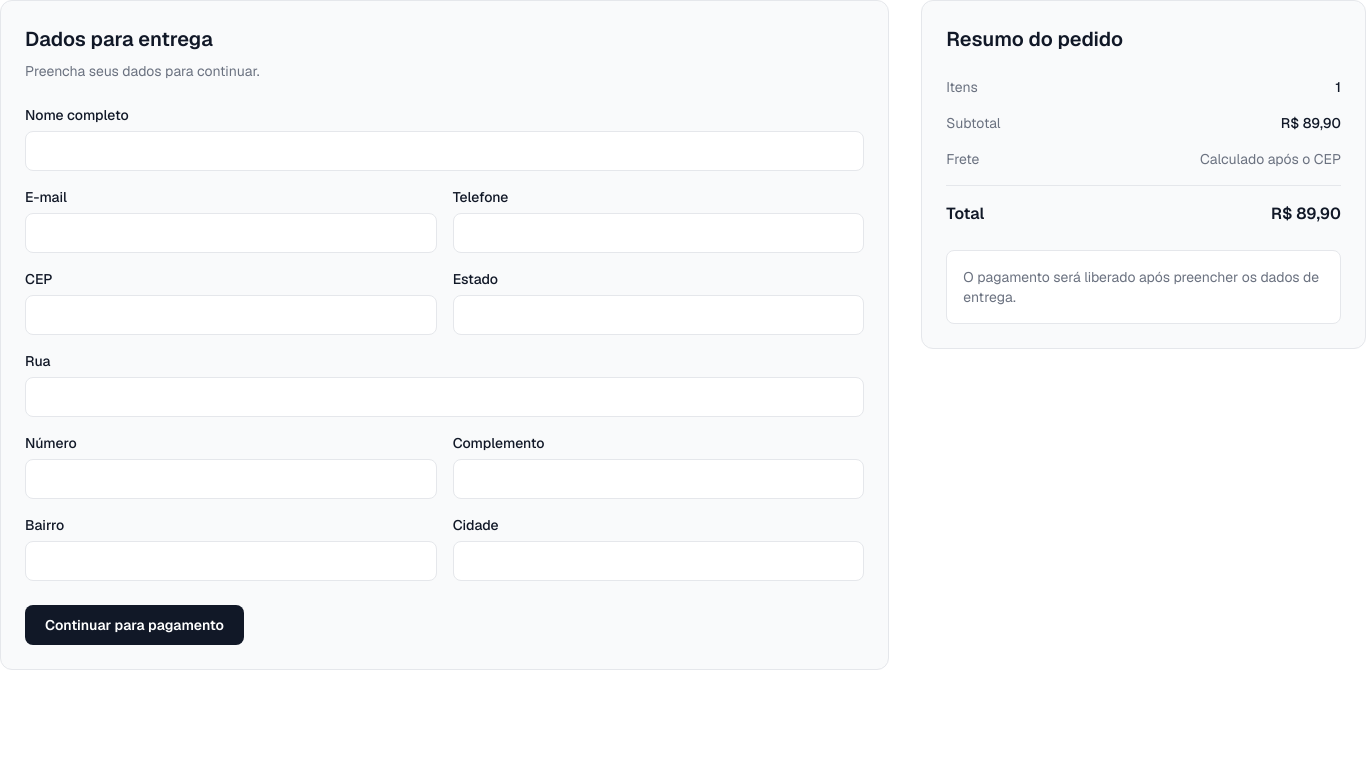
Test: CheckoutContent › deve manter os dados ao voltar para entrega
The image size is (1366, 768).
In the field labelled "Nome completo": (445, 151) [25,131,864,171], type "Guilherme Nobre"
In the field labelled "E-mail": (231, 233) [25,213,437,253], type "guilherme@example.com"
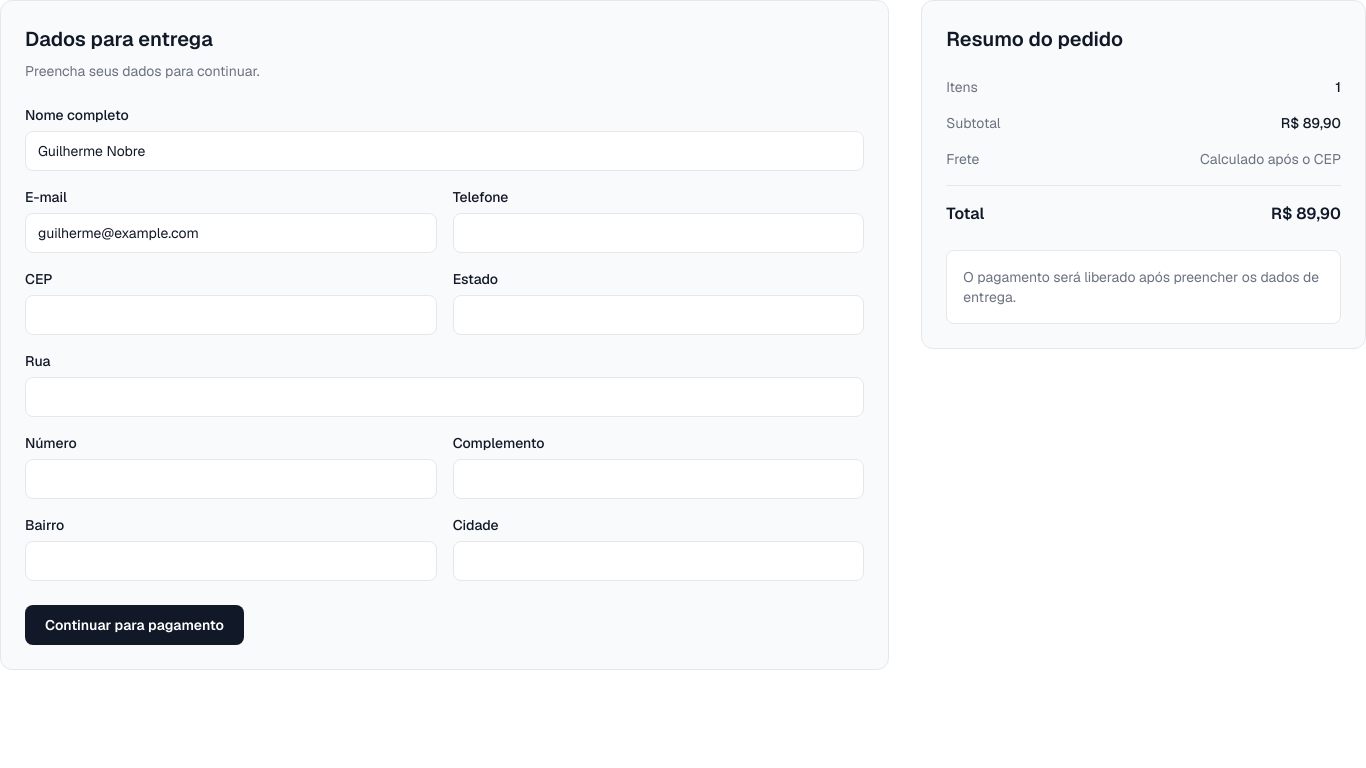
In the field labelled "Telefone": (659, 233) [453,213,864,253], type "16999998888"
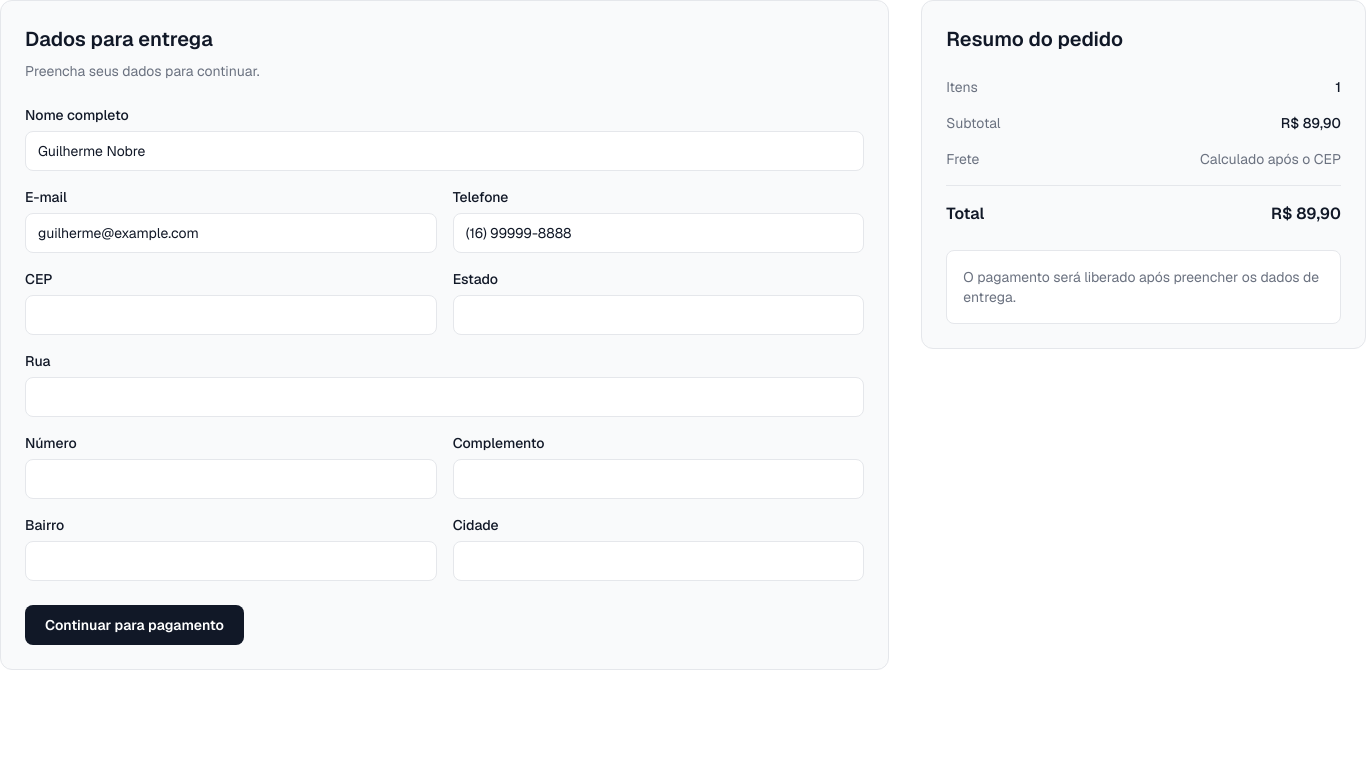
In the field labelled "CEP": (231, 315) [25,295,437,335], type "14010120"
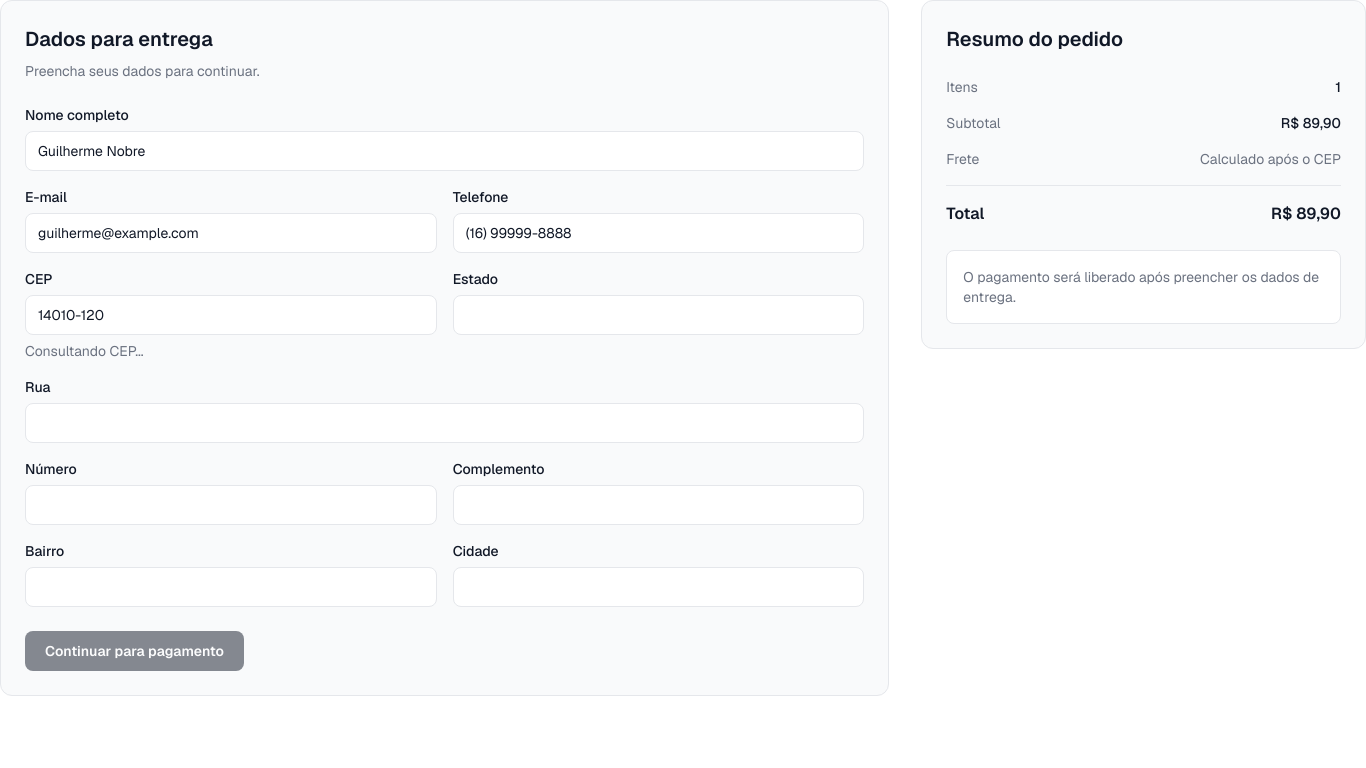
In the field labelled "Número": (231, 505) [25,485,437,525], type "123"
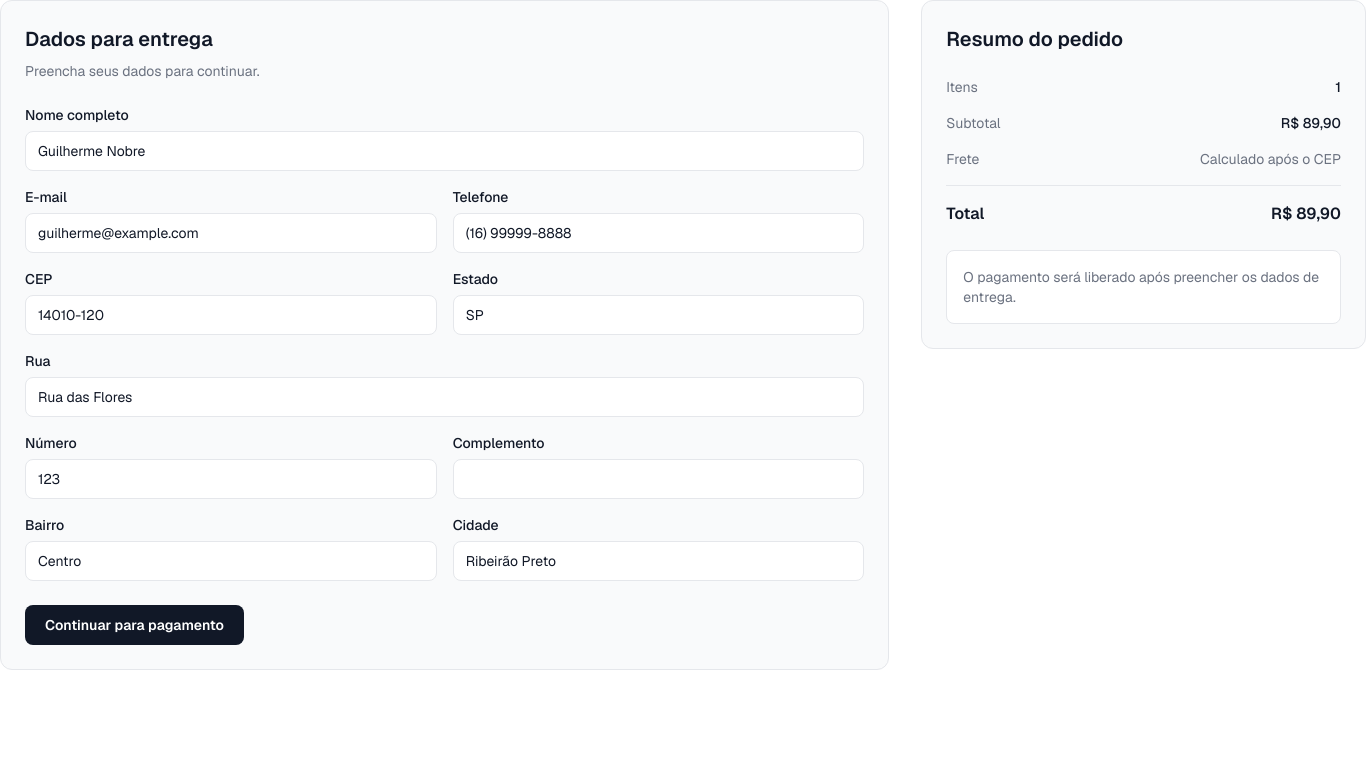
Submit the form named "Continuar para pagamento", box [0,0,889,670]
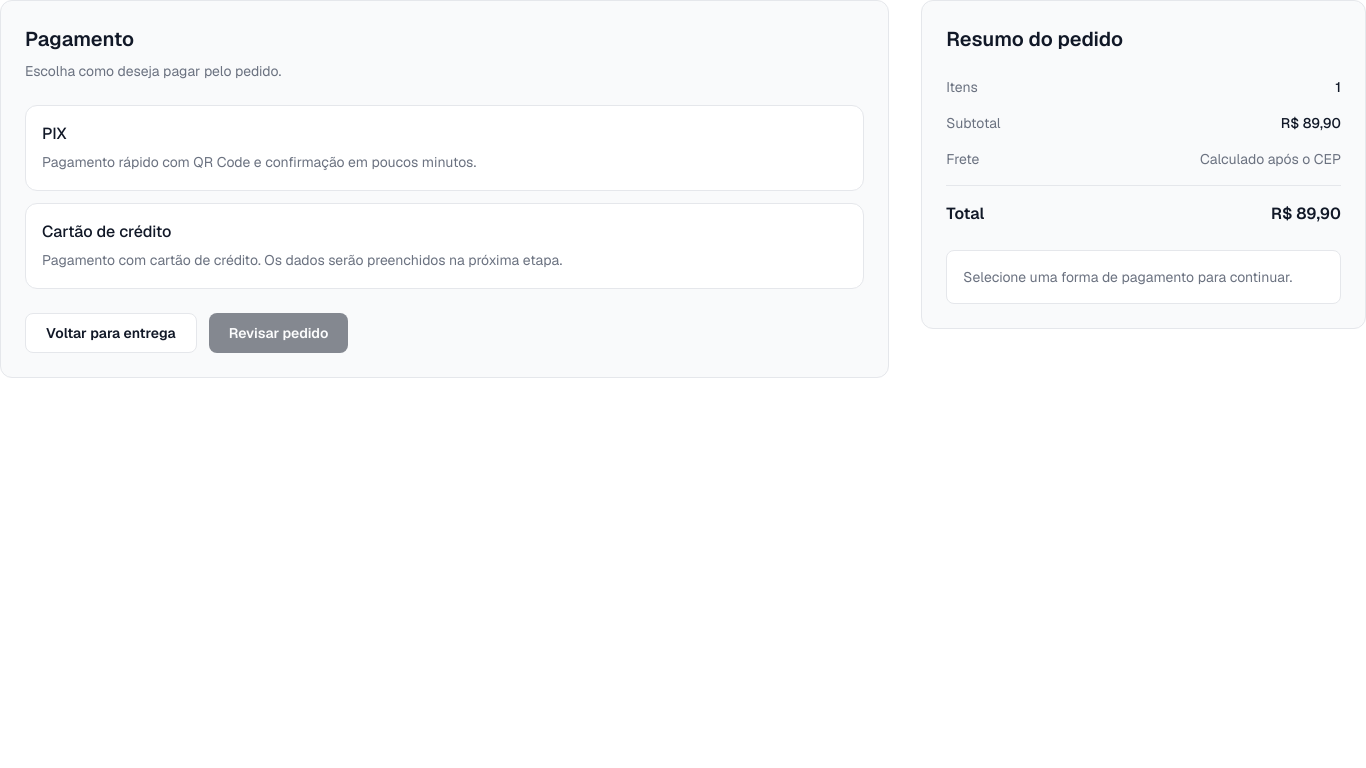
Click the button "Voltar para entrega": (111, 333) [25,313,197,353]
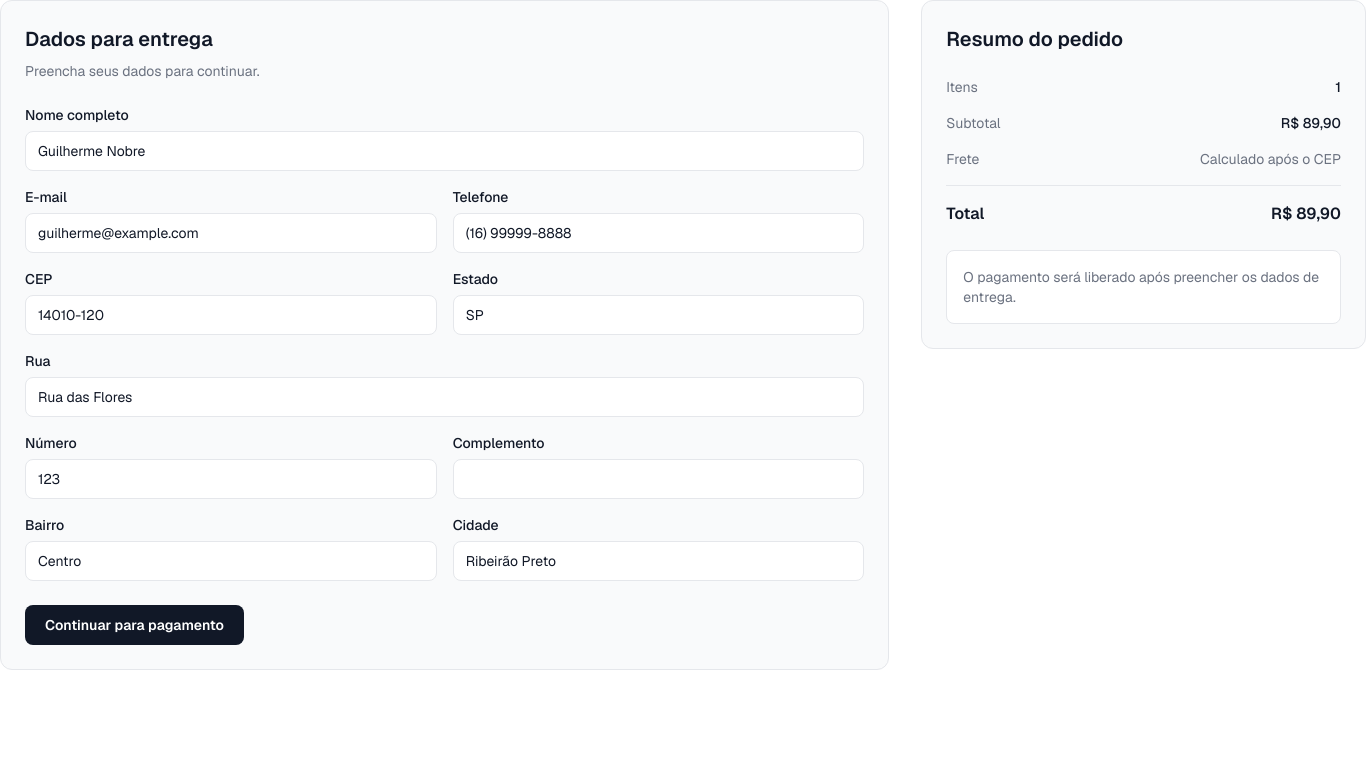
Check: the field labelled "Nome completo" holds "Guilherme Nobre", box [25,131,864,171]
Check: the field labelled "Telefone" holds "(16) 99999-8888", box [453,213,864,253]
Check: the field labelled "CEP" holds "14010-120", box [25,295,437,335]
